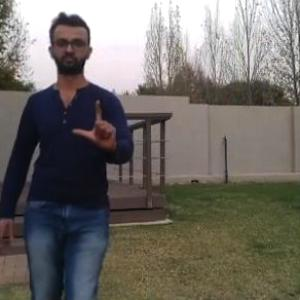land_hand: (73, 93, 126, 155)
